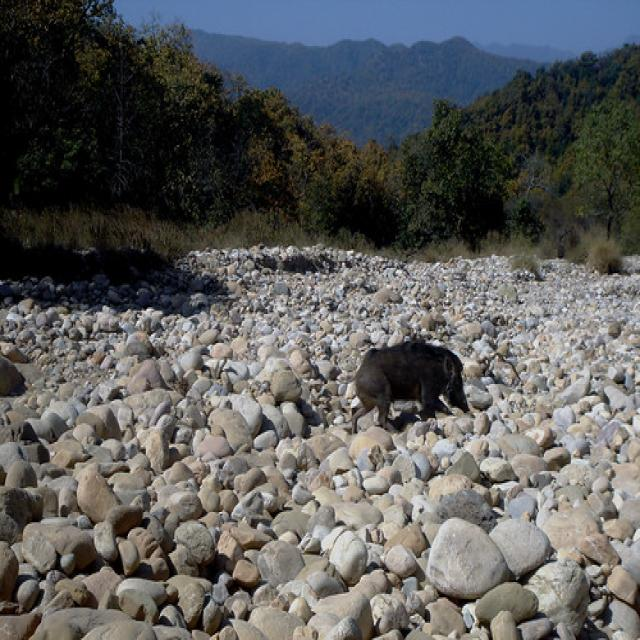boar: (349, 324, 472, 446)
